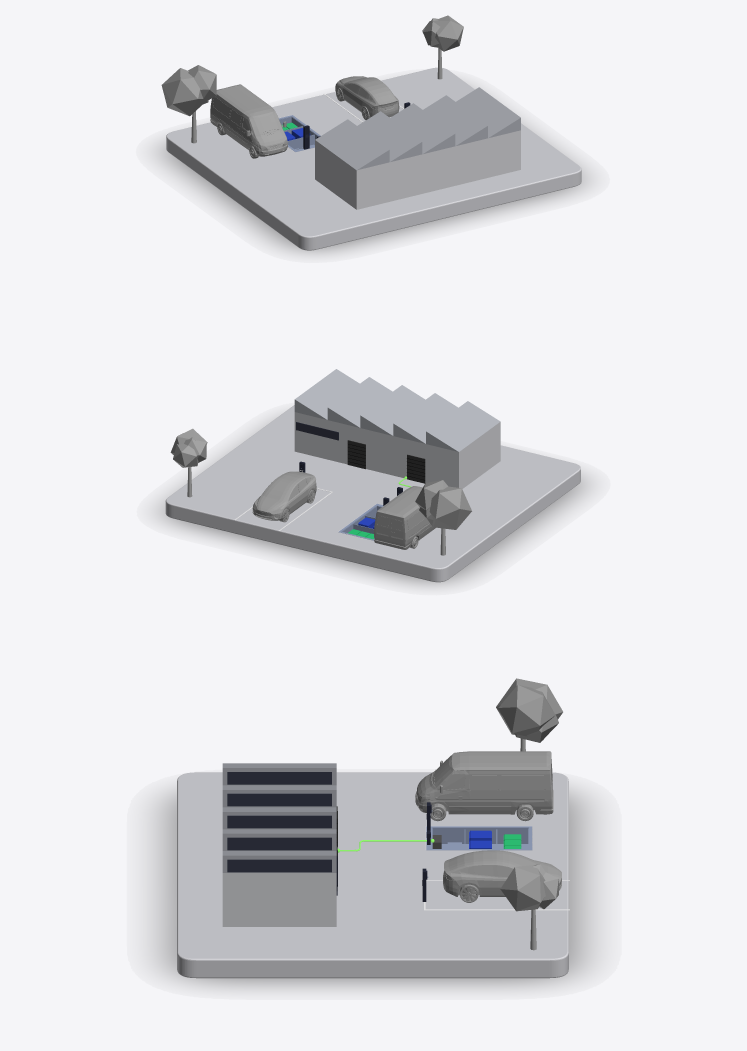
Rendered from sett-scroll-doelgroep-ondernemer.glb.
The picture shows the model from 3 angles, top to bottom: view 1: azimuth 30°, elevation 25°; view 2: azimuth 150°, elevation 25°; view 3: azimuth 270°, elevation 25°; orthographic projection. The views are drawn at different scales.
Parts seen in each view (by area): view 1: object 37, building, contact_shadow, van, car, object 49, object 52, object 47; view 2: object 37, building, contact_shadow, van, car, object 49, object 47; view 3: object 37, building, contact_shadow, van, car, object 47, object 52, BAK_met_RIBS, object 49.
Part boxes in pixels (box(x1,y1,x2,y2)): object 37: box(166, 67, 581, 250); building: box(315, 87, 520, 209); contact_shadow: box(160, 144, 585, 252); van: box(210, 84, 288, 158); car: box(335, 76, 399, 119); object 49: box(161, 68, 204, 116); object 52: box(432, 15, 463, 51); object 47: box(188, 65, 216, 103); object 37: box(165, 405, 580, 582); building: box(294, 369, 500, 488); contact_shadow: box(161, 476, 586, 584); van: box(374, 486, 435, 549); car: box(252, 471, 316, 522); object 49: box(429, 486, 471, 529); object 47: box(415, 480, 448, 510); object 37: box(177, 772, 568, 978); building: box(222, 763, 337, 926); contact_shadow: box(157, 791, 590, 986); van: box(415, 751, 553, 821); car: box(443, 850, 561, 902); object 47: box(498, 685, 555, 736); object 52: box(500, 865, 545, 911); BAK_met_RIBS: box(426, 826, 532, 849); object 49: box(496, 678, 562, 740).
Bounding box in the file's own units: 2775 × 504 × 2775.
Materials: 22 (1 with a texture image).
